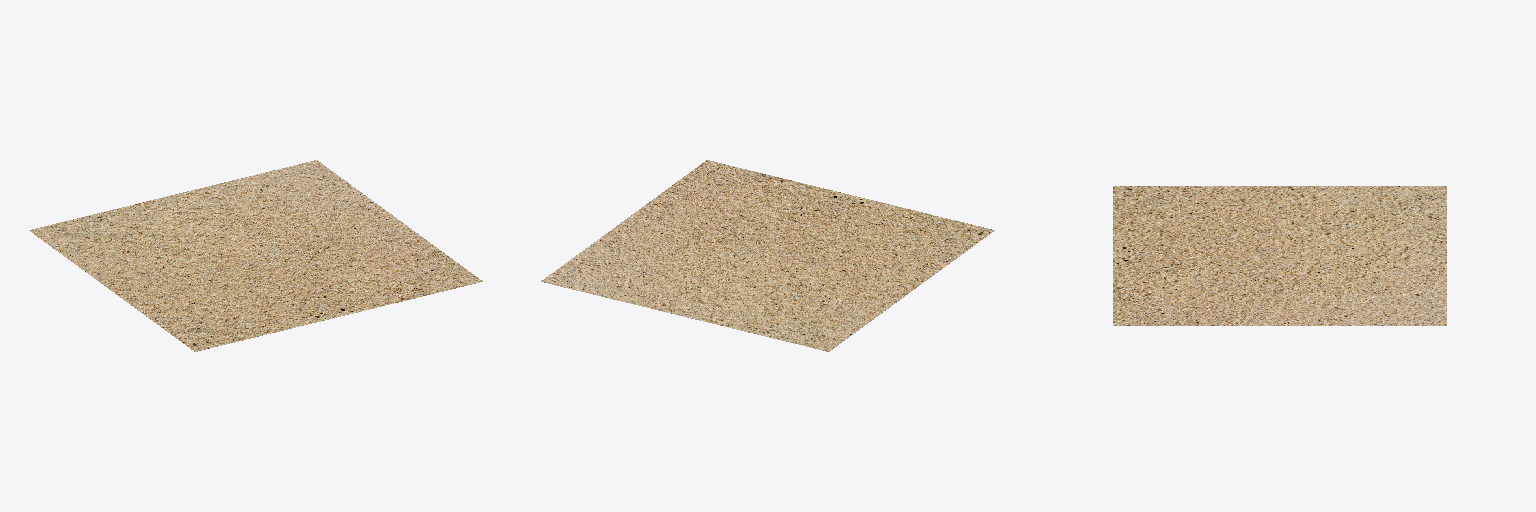
3 renders of one model, left to right at view 1: azimuth 30°, elevation 25°; view 2: azimuth 150°, elevation 25°; view 3: azimuth 270°, elevation 25°, orthographic.
Parts seen in each view (by area): view 1: Fondo:pPlane1; view 2: Fondo:pPlane1; view 3: Fondo:pPlane1.
Boxes of the visible parts, <box> form: Fondo:pPlane1: <box>29,160,482,351</box>; Fondo:pPlane1: <box>541,160,994,351</box>; Fondo:pPlane1: <box>1113,186,1446,325</box>.
Bounding box in the file's own units: 24.37 × 0 × 24.37.
1 materials, 1 textured.